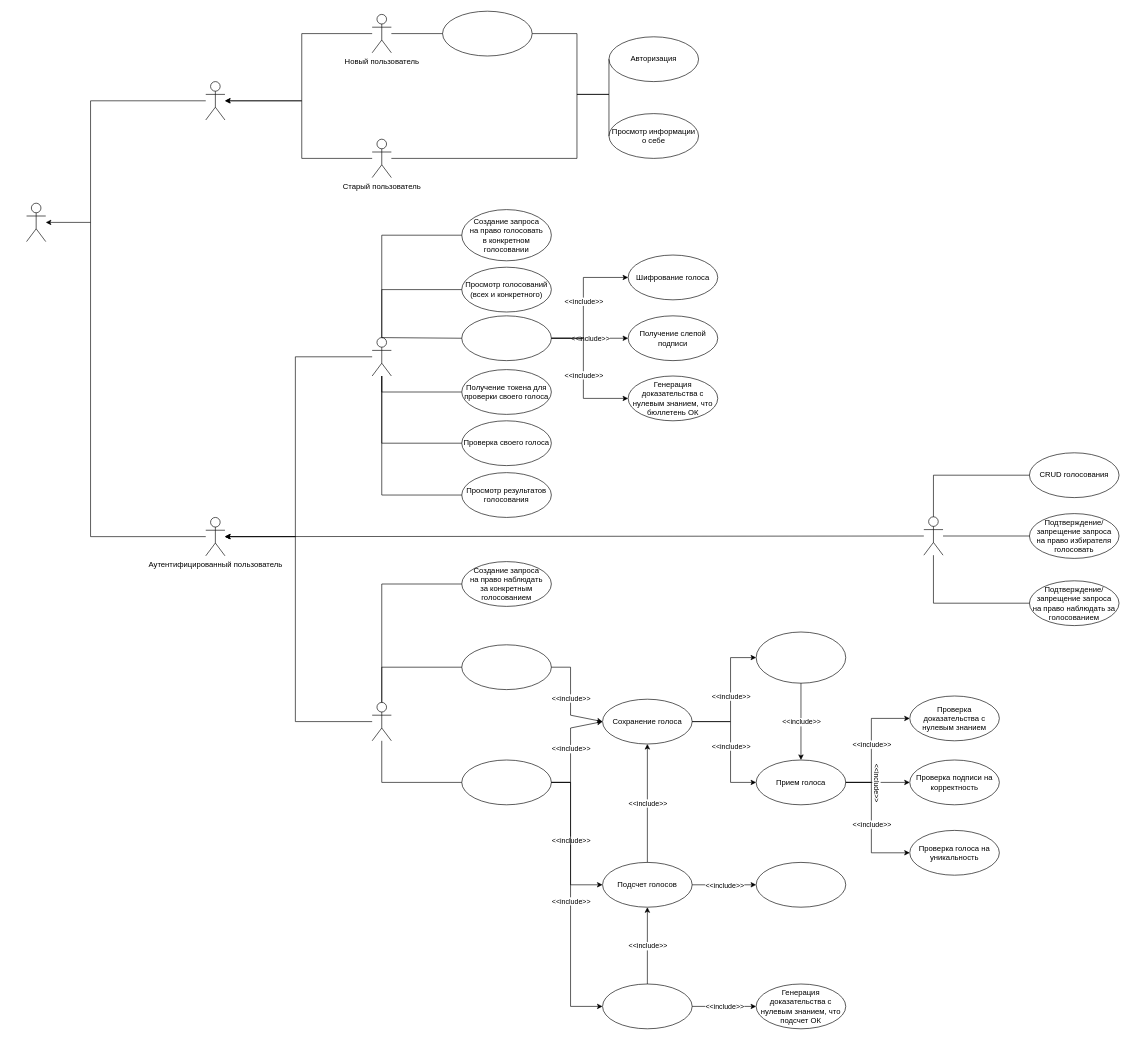
Image size: 1130x1040. Some labels were removed from this diagram. Each missing label, with the box of its shape:
Агрегация зашифрованных голосов: (756, 862, 846, 907)
Голосование: (461, 315, 551, 361)
Избиратель: (372, 337, 391, 376)
Наблюдатель: (372, 702, 391, 741)
Неаутентифицированный пользователь: (205, 81, 225, 120)
Пользователь: (26, 203, 46, 242)
Просмотр результатов после голосования: (461, 759, 551, 805)
Просмотр цепочки записей голосов во время голосования: (461, 644, 551, 690)
Публикация голосов: (602, 983, 692, 1029)
Регистрация: (442, 11, 532, 56)
Создание токена для отслеживания в цепочке записей голосов: (756, 631, 846, 683)
Создатель голосования: (923, 516, 943, 555)
